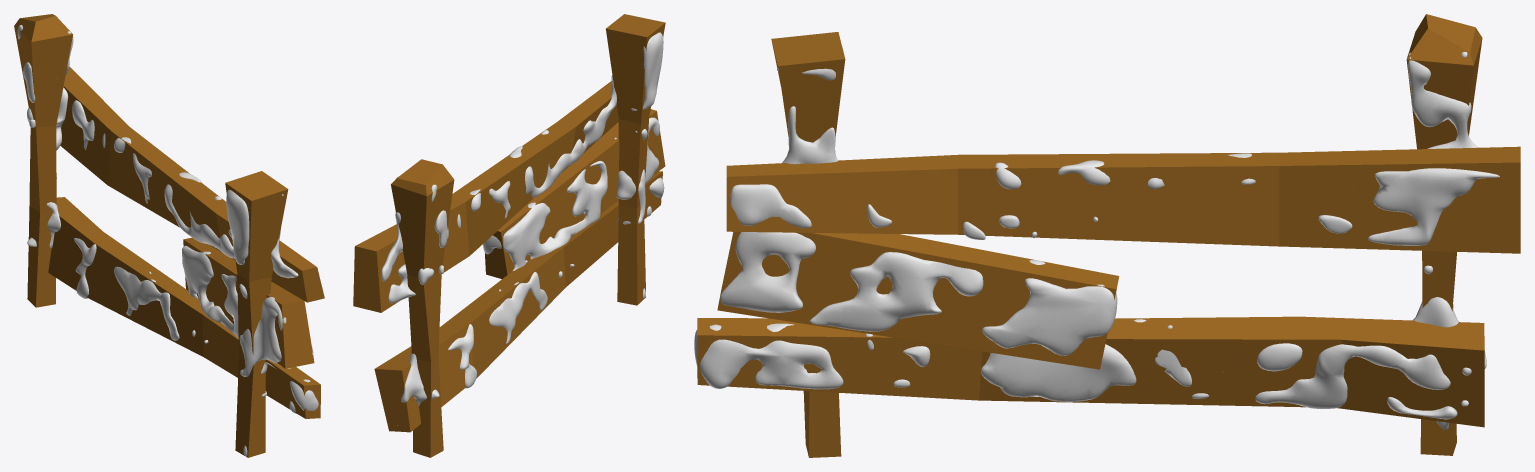
The model's file is Fence short.fbx.
3 renders of one model, left to right at view 1: azimuth 30°, elevation 25°; view 2: azimuth 150°, elevation 25°; view 3: azimuth 270°, elevation 25°, orthographic. The views are drawn at different scales.
Visible parts, largest first — view 1: Cube.023_Cube.044, 3dmSnow.004; view 2: Cube.023_Cube.044, 3dmSnow.004; view 3: Cube.023_Cube.044, 3dmSnow.004.
Boxes of the visible parts, box(x1,y1,x2,y2) form: Cube.023_Cube.044: box(14, 14, 324, 457); 3dmSnow.004: box(17, 25, 318, 456); Cube.023_Cube.044: box(353, 14, 665, 457); 3dmSnow.004: box(381, 32, 664, 425); Cube.023_Cube.044: box(697, 14, 1520, 457); 3dmSnow.004: box(694, 52, 1499, 429).
Bounding box in the file's own units: 22.03 × 78.35 × 137.
